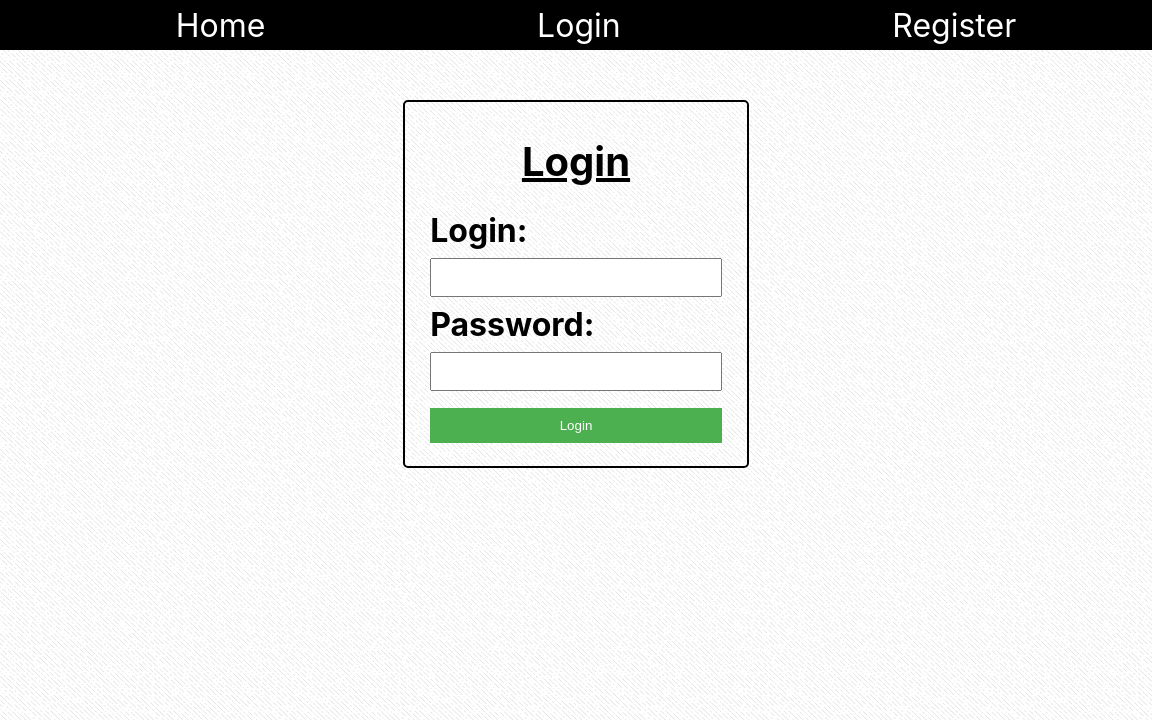
Test: E2E with cypress › Test login form validate
Click the button "Login" at (576, 426), box [430,408,722,443]
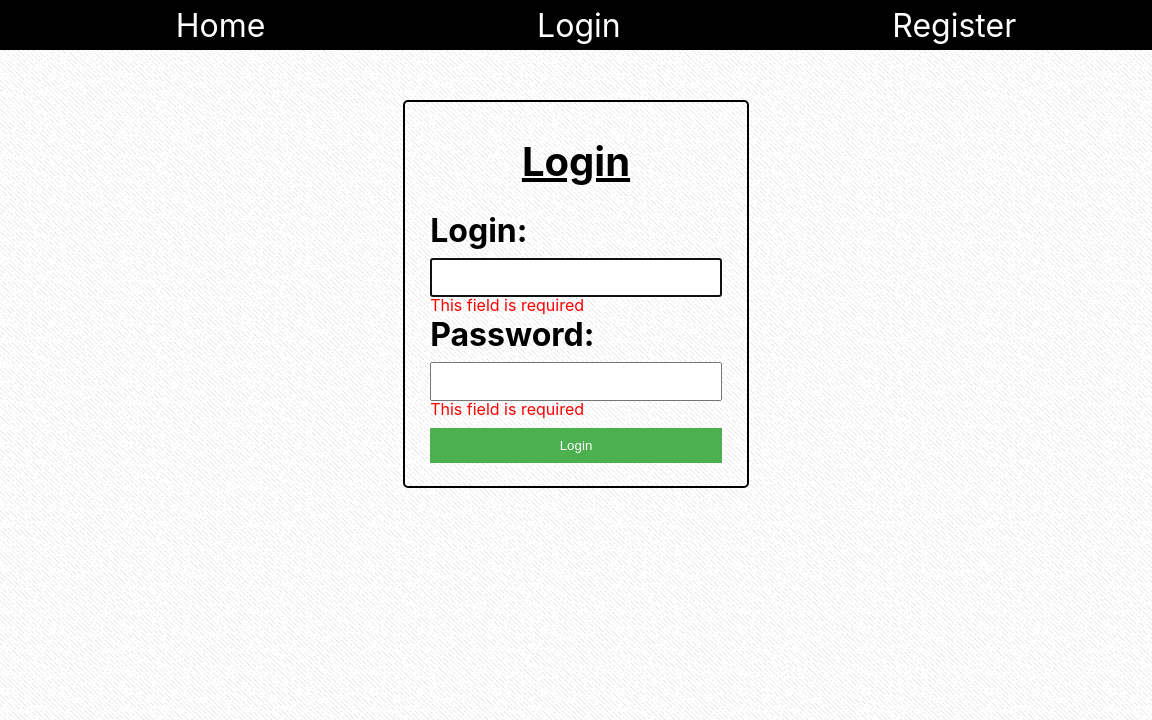
Check: the number of elements with class "error" is 2, box [430,295,584,315]; [430,399,584,419]
Check: the 1st text with class "error" reads "This field is required", box [430,295,584,315]
Check: the 2nd text with class "error" reads "This field is required", box [430,399,584,419]
Type "test" into the field named "login" at (576, 278), box [430,258,722,297]
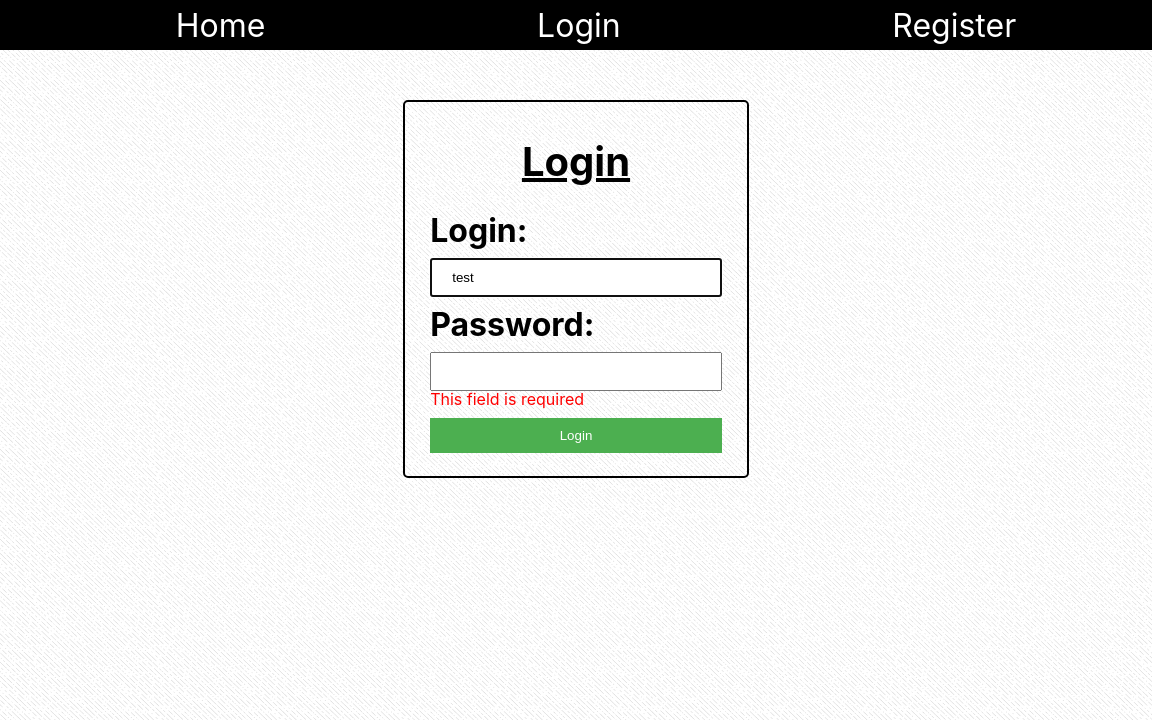
Check: the text with class "error" reads "This field is required", box [430,389,584,409]
Check: the number of elements with class "error" is 1, box [430,389,584,409]
